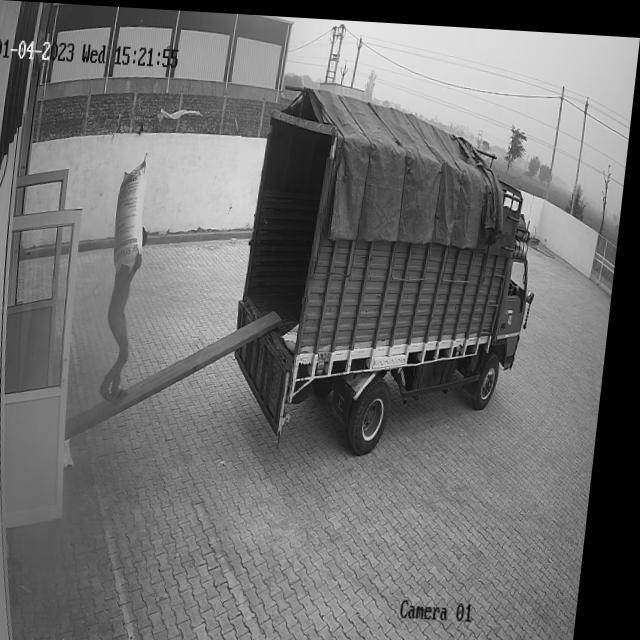sack: (114, 151, 156, 270)
